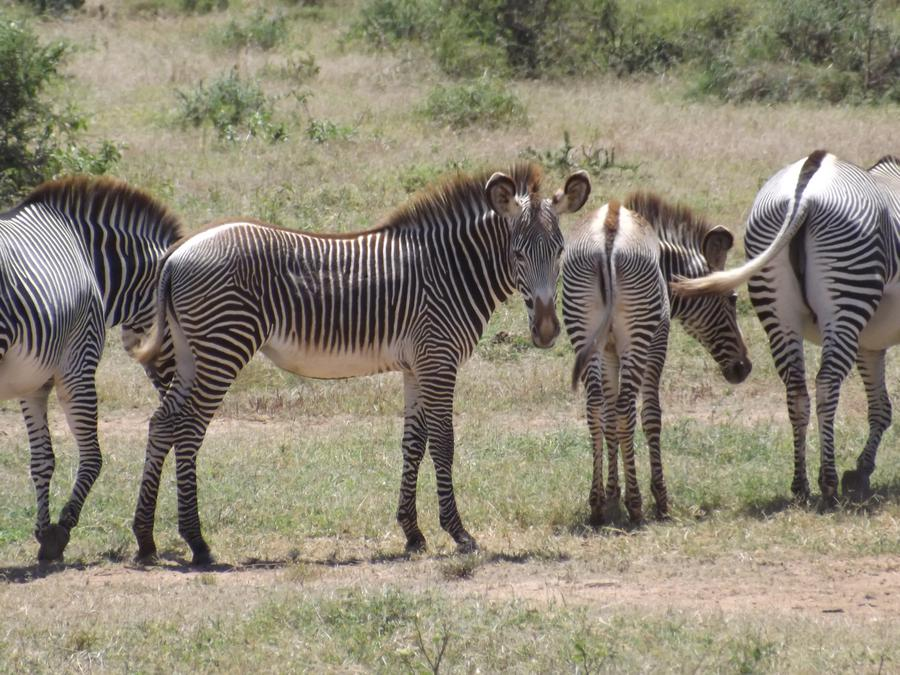zebra_grevys: (163, 209, 460, 375)
